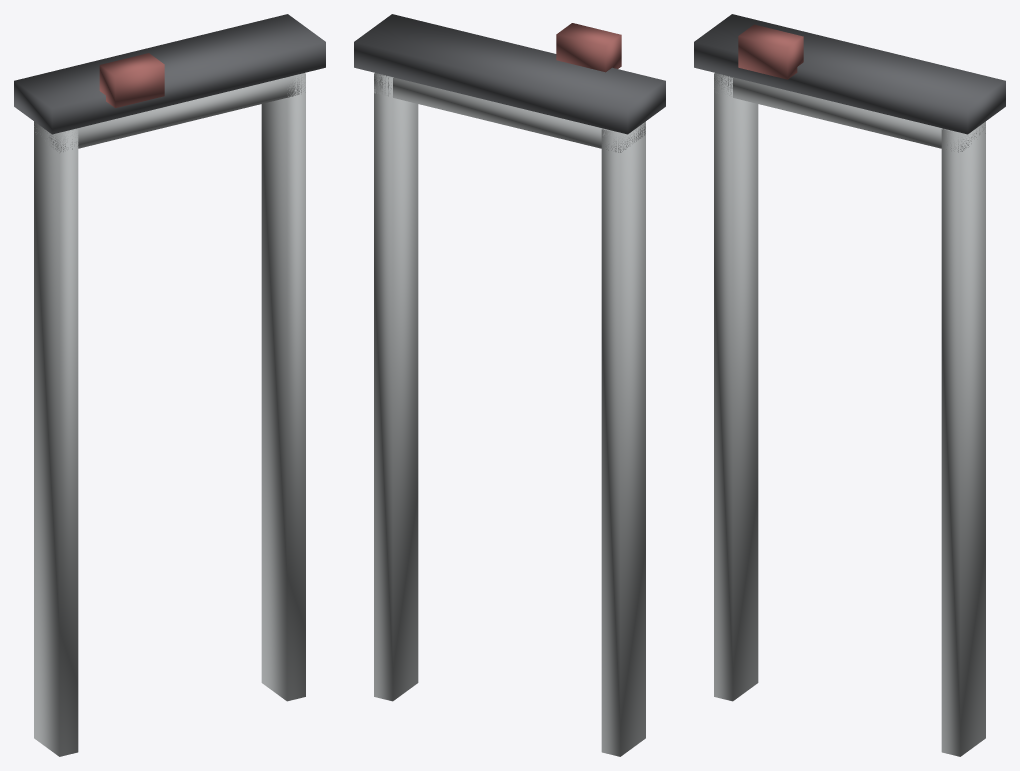
File: doorway_fire_rated_w76_h210_d16.glb
3 renders of one model, left to right at view 1: azimuth 30°, elevation 25°; view 2: azimuth 150°, elevation 25°; view 3: azimuth 330°, elevation 25°, orthographic.
Parts seen in each view (by area): view 1: world; view 2: world; view 3: world.
Boxes of the visible parts, x1,y1,x2,y2 form: world: (14,14,325,756); world: (354,14,665,756); world: (694,14,1005,756).
Bounding box in the file's own units: 0.9968 × 2.37 × 0.3.
